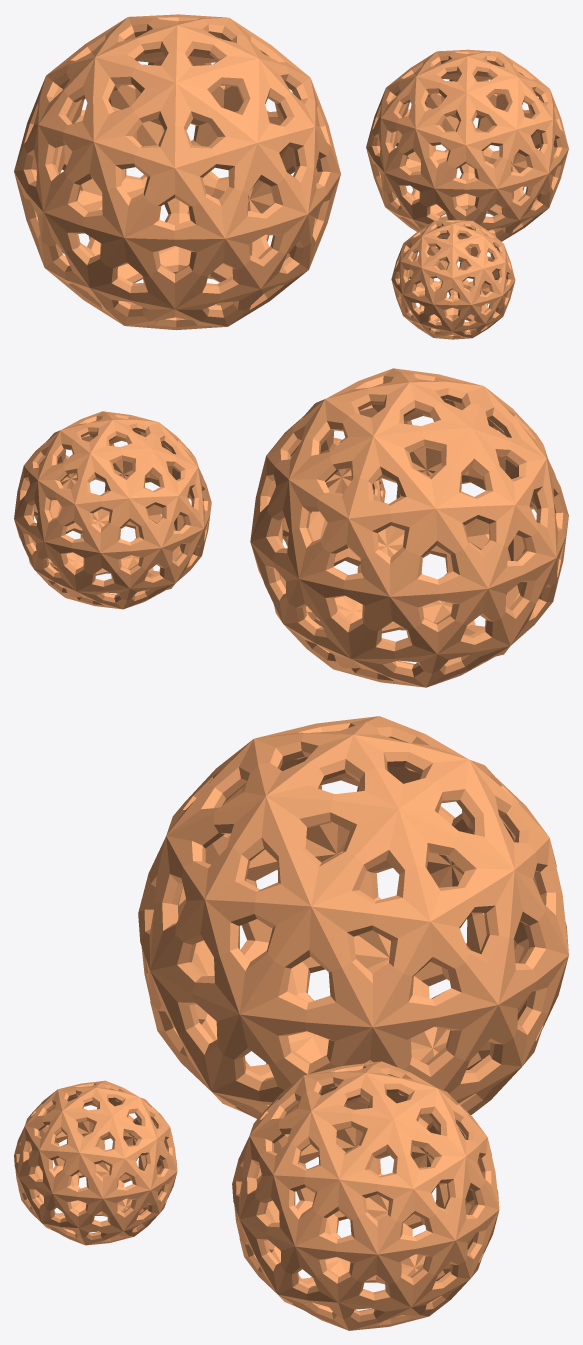
Rendered from goldeSphere.fbx.
3 renders of one model, top to bottom at view 1: azimuth 30°, elevation 25°; view 2: azimuth 150°, elevation 25°; view 3: azimuth 270°, elevation 25°, orthographic. The views are drawn at different scales.
Visible parts, largest first — view 1: geodesicSphere, geodesicSphere.001, geodesicSphere.002; view 2: geodesicSphere, geodesicSphere.001; view 3: geodesicSphere, geodesicSphere.001, geodesicSphere.002.
Boxes of the visible parts, x1=… form: geodesicSphere: x1=14, y1=14, x2=340, y2=330; geodesicSphere.001: x1=366, y1=49, x2=568, y2=241; geodesicSphere.002: x1=391, y1=219, x2=515, y2=339; geodesicSphere: x1=250, y1=368, x2=568, y2=687; geodesicSphere.001: x1=14, y1=411, x2=211, y2=609; geodesicSphere: x1=138, y1=716, x2=568, y2=1124; geodesicSphere.001: x1=232, y1=1061, x2=499, y2=1330; geodesicSphere.002: x1=14, y1=1080, x2=177, y2=1245.
Bounding box in the file's own units: 21.69 × 10.99 × 14.74.
